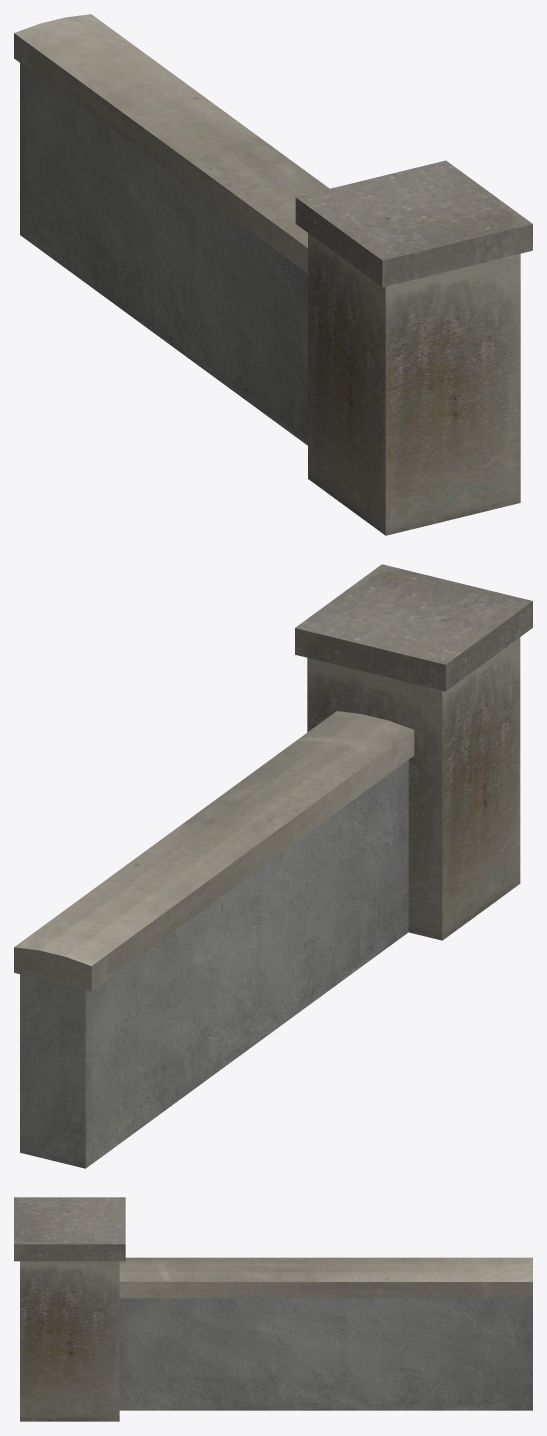
Rendered from wall.fbx.
3 renders of one model, top to bottom at view 1: azimuth 30°, elevation 25°; view 2: azimuth 150°, elevation 25°; view 3: azimuth 270°, elevation 25°, orthographic. The views are drawn at different scales.
Visible parts, largest first — view 1: Wall, Pillar; view 2: Wall, Pillar; view 3: Wall, Pillar.
Part boxes in pixels (x1,y1,x2,y2): Wall: (14,14,329,445); Pillar: (295,160,532,535); Wall: (14,711,414,1168); Pillar: (295,564,532,940); Wall: (119,1257,532,1410); Pillar: (14,1197,125,1421).
Bounding box in the file's own units: 0.407 × 0.7243 × 1.89.
